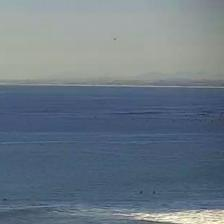surfer: (139, 191, 143, 194), (152, 191, 154, 194), (3, 199, 6, 201)
